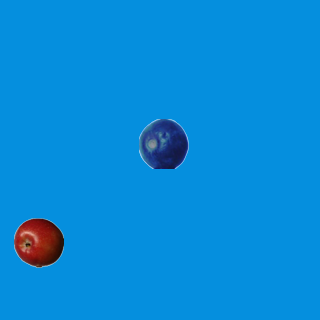Apple Braeburn: (13, 217, 63, 267)
Huckleberry: (138, 118, 188, 168)
